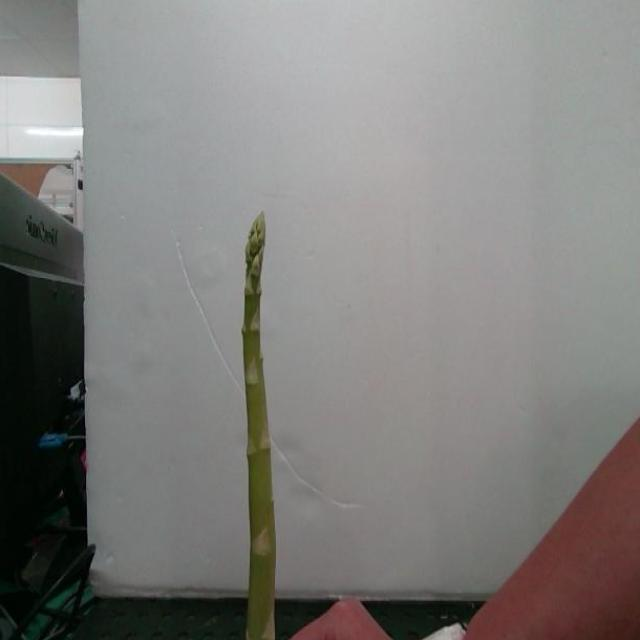aspargus: (242, 214, 277, 640)
